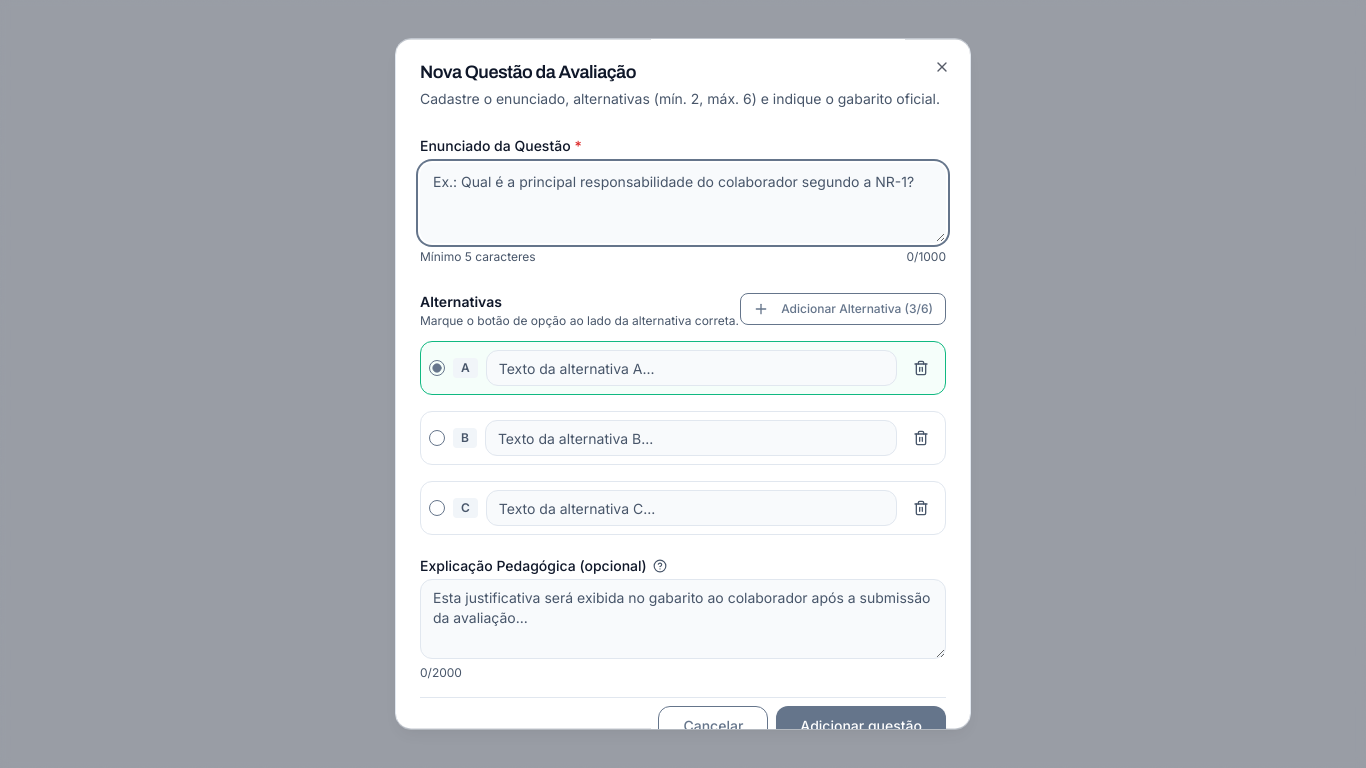
ETAPA 9.6 — CRUD de Módulos, Aulas e Quiz (Passo 8.1 Validações) › i) recusa submissão quando alternativas têm texto em branco
This screenshot has width=1366, height=768.
Step 1. Replace the text in the text box labelled "Enunciado da Questão *" with "Qual a norma regulamentadora de segurança geral?" → (683, 203), box [420,163,946,243]
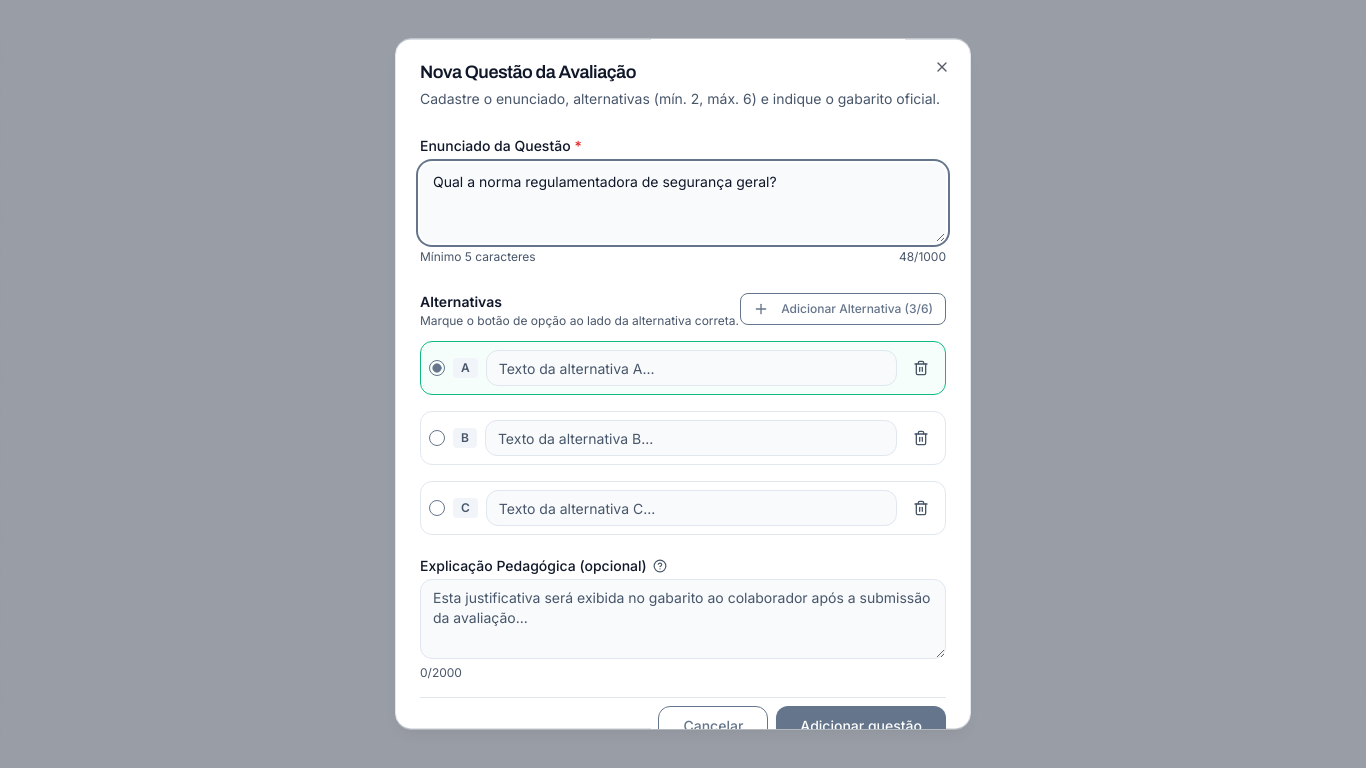
// Alternativas vazias
Step 2. Click the button "Adicionar questão" → (861, 726), box [776,706,946,746]
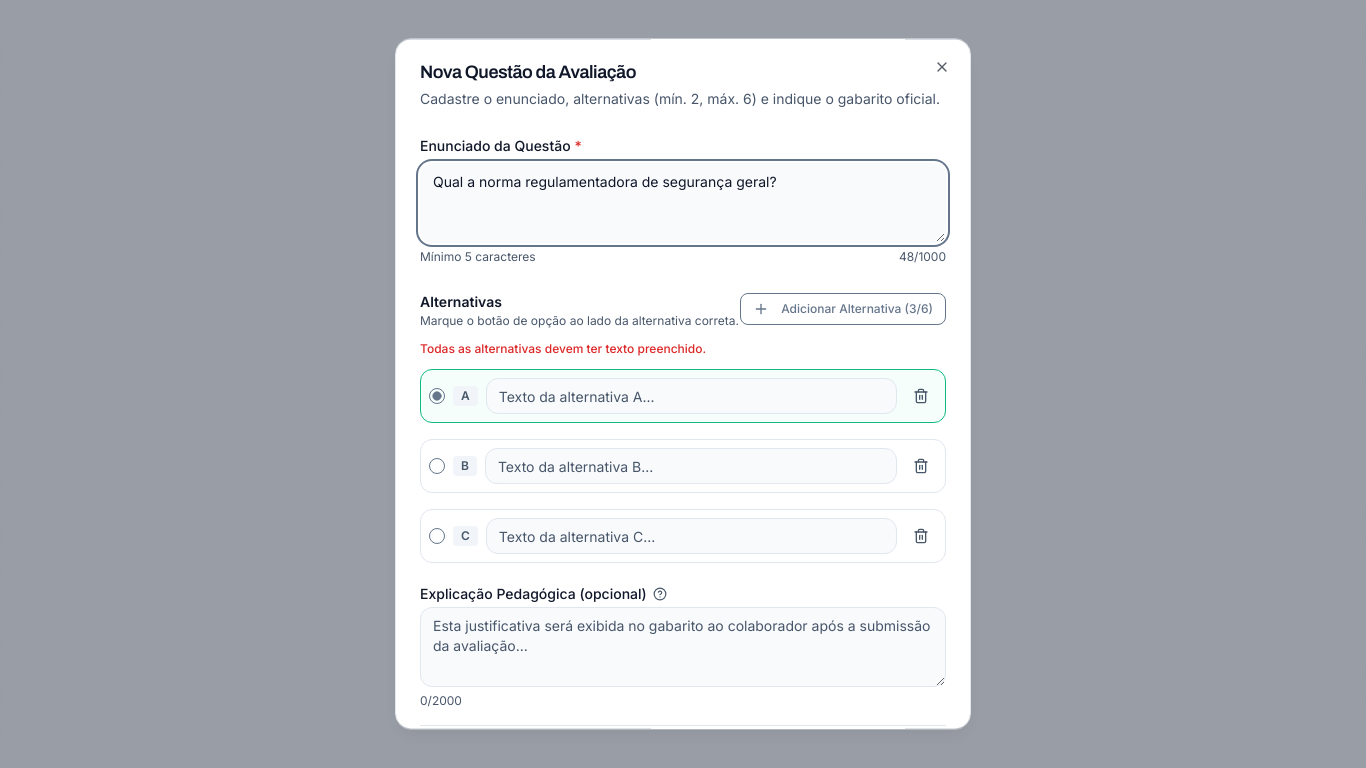
Now the text "Todas as alternativas devem ter texto preenchido." is shown, box [420,341,706,356]
